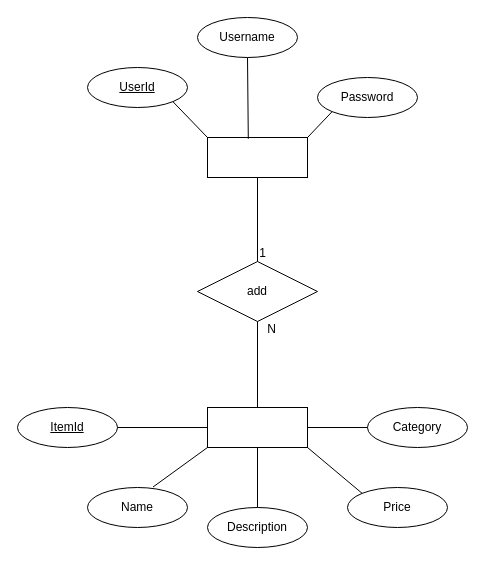
Image size: 485x565. Some labels were removed from this diagram. The centre of each missing label's shape, as x and y in pixels:
"MenuItem" belongs at point 257,427.
"User" belongs at point 257,157.
